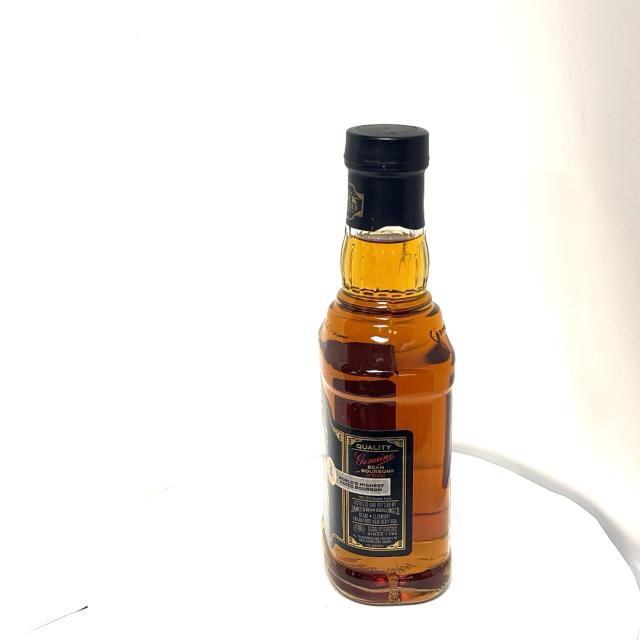JIM BEAM BLACK 375ML: (317, 124, 456, 609), (318, 124, 456, 610)
